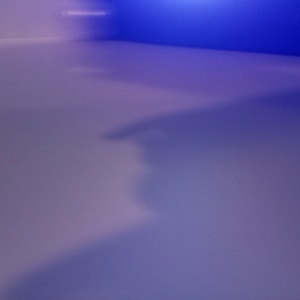dead_ball: (18, 23, 95, 105), (225, 53, 300, 132)
